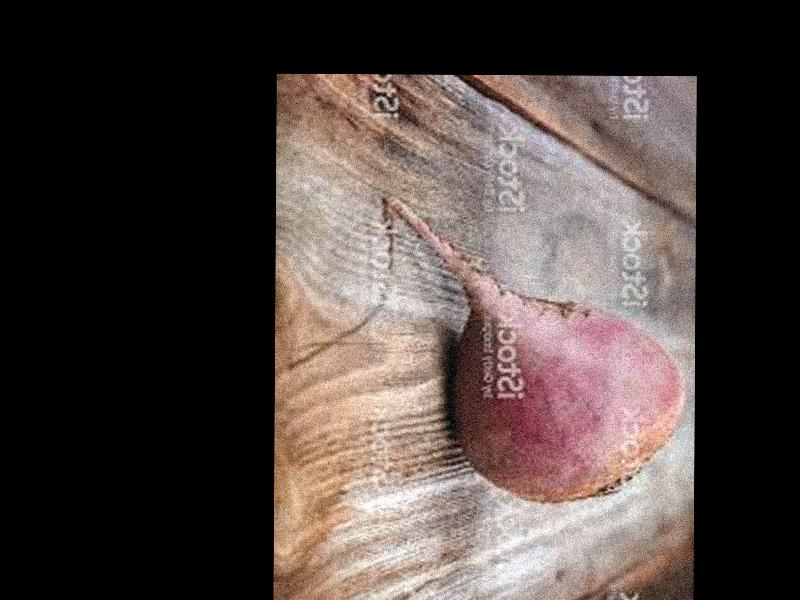Beet: (383, 194, 686, 503)
